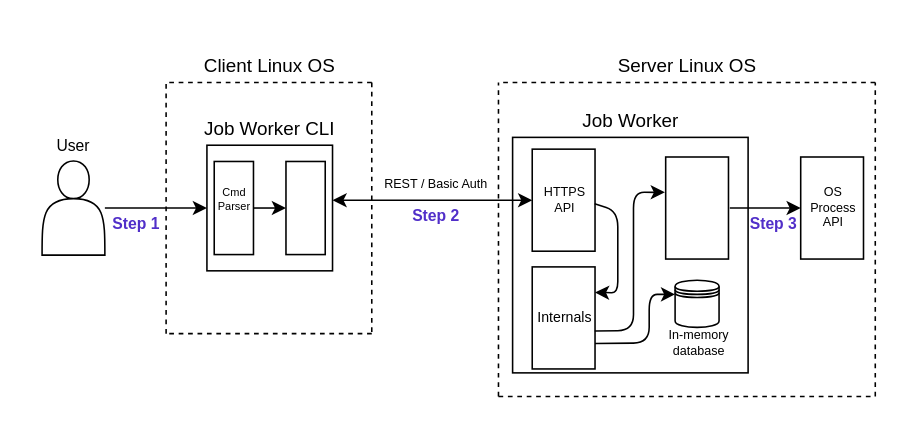
Image size: 918x432. Some labels were removed from this diagram. Here are the shapes that lost their labels. From the top down, the centre of each, then its label:
At [304,207]: "HTTP Client".
At [696,207]: "Worker Library".
